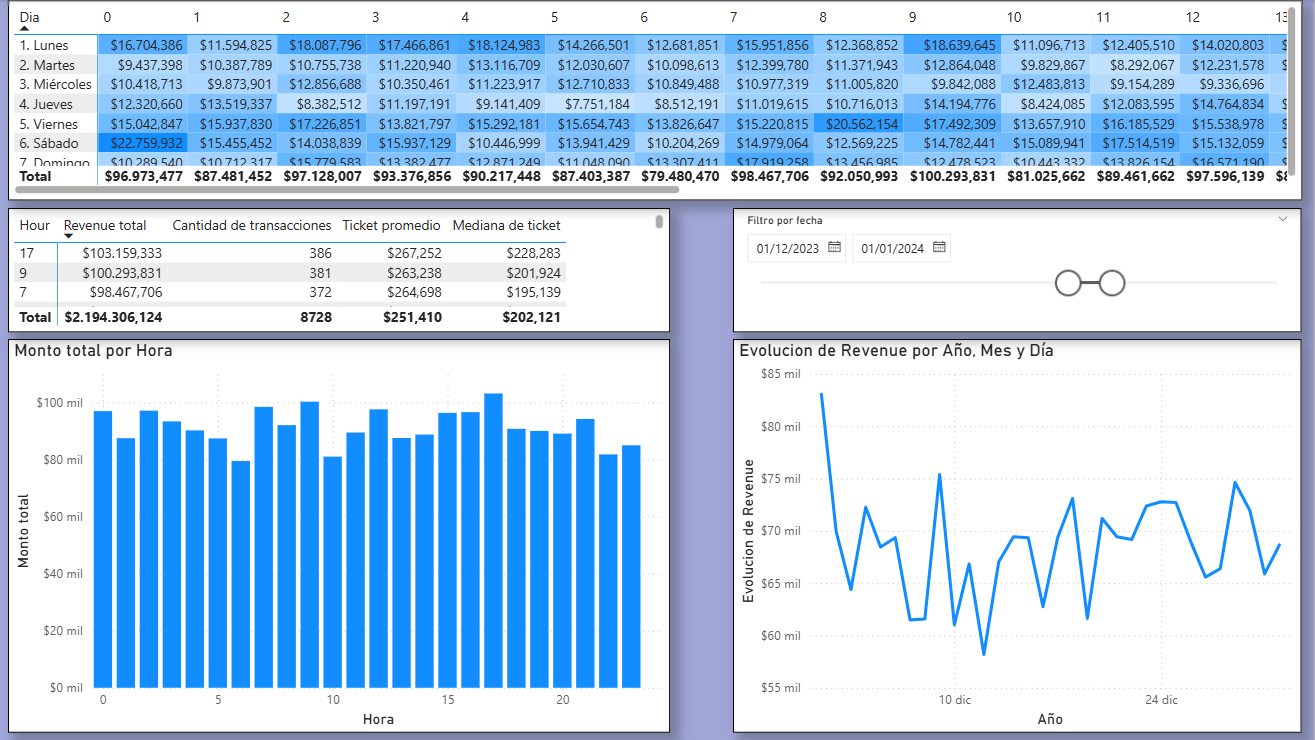

What the dashboard file says about the page in this screenshot:
{"tool":"powerbi","page":{"name":"Temperatura Ventas","canvas":[1280,720],"ordinal":1},"visuals":[{"type":"lineChart","fields":{"Category":["dw dim_transactionDate.Fecha_completa.Variación.Jerarquía de fechas.Año","dw dim_transactionDate.Fecha_completa.Variación.Jerarquía de fechas.Mes","dw dim_transactionDate.Fecha_completa.Variación.Jerarquía de fechas.Día"],"Y":["Sum(dw fact_transactions.Total_amount)"]},"box":[714.9,329.7,553.4,383.2],"z":0},{"type":"slicer","fields":{"Values":["dw dim_transactionDate.Fecha_completa"]},"box":[714.9,202.3,553.4,120.6],"z":1000},{"type":"clusteredColumnChart","fields":{"Y":["Sum(dw fact_transactions.Total_amount)"],"Category":["dw dim_transactionTime.Hour"]},"box":[9.7,329.7,643.9,383.2],"z":2000},{"type":"pivotTable","fields":{"Rows":["dw dim_transactionTime.Hour"],"Values":["Sum(dw fact_transactions.Total_amount)","CountNonNull(dw fact_transactions.Transaction_id)","Avg(dw fact_transactions.Total_amount)","Median(dw fact_transactions.Total_amount)"]},"box":[9.7,202.3,643.9,120.6],"z":3000},{"type":"pivotTable","fields":{"Rows":["dw fact_transactions.Nombre_Dia"],"Values":["Sum(dw fact_transactions.Total_amount)"],"Columns":["dw dim_transactionTime.Hour"]},"box":[9.7,0,1258.6,194.5],"z":4000}]}

Visuals, with their boxes in screenshot pixels (x1, y1, x2, y2), scaled from the page's 1280x720 canvas onto the 1315x740 screenshot:
lineChart - dw dim_transactionDate.Fecha_completa.Variación.Jerarquía de fechas.Año x dw dim_transactionDate.Fecha_completa.Variación.Jerarquía de fechas.Mes: bbox=(734, 339, 1303, 733)
slicer - dw dim_transactionDate.Fecha_completa: bbox=(734, 208, 1303, 332)
clusteredColumnChart - Sum(dw fact_transactions.Total_amount) x dw dim_transactionTime.Hour: bbox=(10, 339, 671, 733)
pivotTable - dw dim_transactionTime.Hour x Sum(dw fact_transactions.Total_amount): bbox=(10, 208, 671, 332)
pivotTable - dw fact_transactions.Nombre_Dia x Sum(dw fact_transactions.Total_amount): bbox=(10, 0, 1303, 200)
